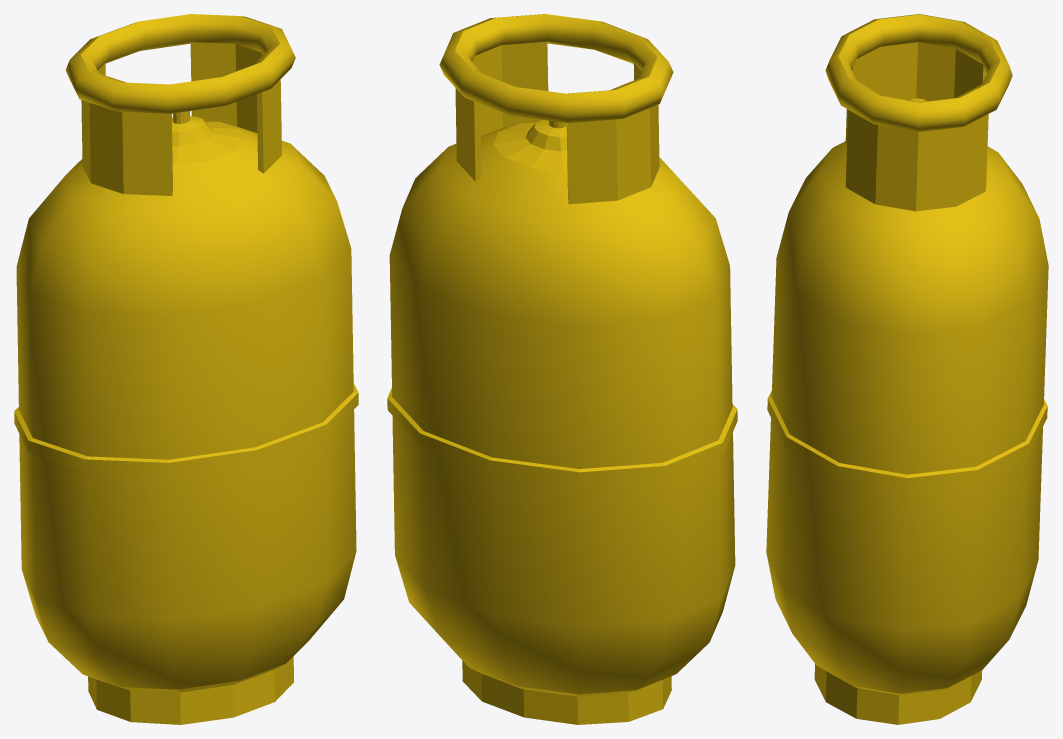
The model's file is Parts_Oil Barrel_90fix.fbx.
3 views of the same model, side by side, from view 1: azimuth 30°, elevation 25°; view 2: azimuth 150°, elevation 25°; view 3: azimuth 270°, elevation 25° (orthographic). The views are drawn at different scales.
Visible parts, largest first — view 1: OilTank001; view 2: OilTank001; view 3: OilTank001.
Boxes of the visible parts, x1,y1,x2,y2 form: OilTank001: (14,14,358,724); OilTank001: (387,14,737,724); OilTank001: (766,14,1048,724).
Bounding box in the file's own units: 22.53 × 43.1 × 17.69.
